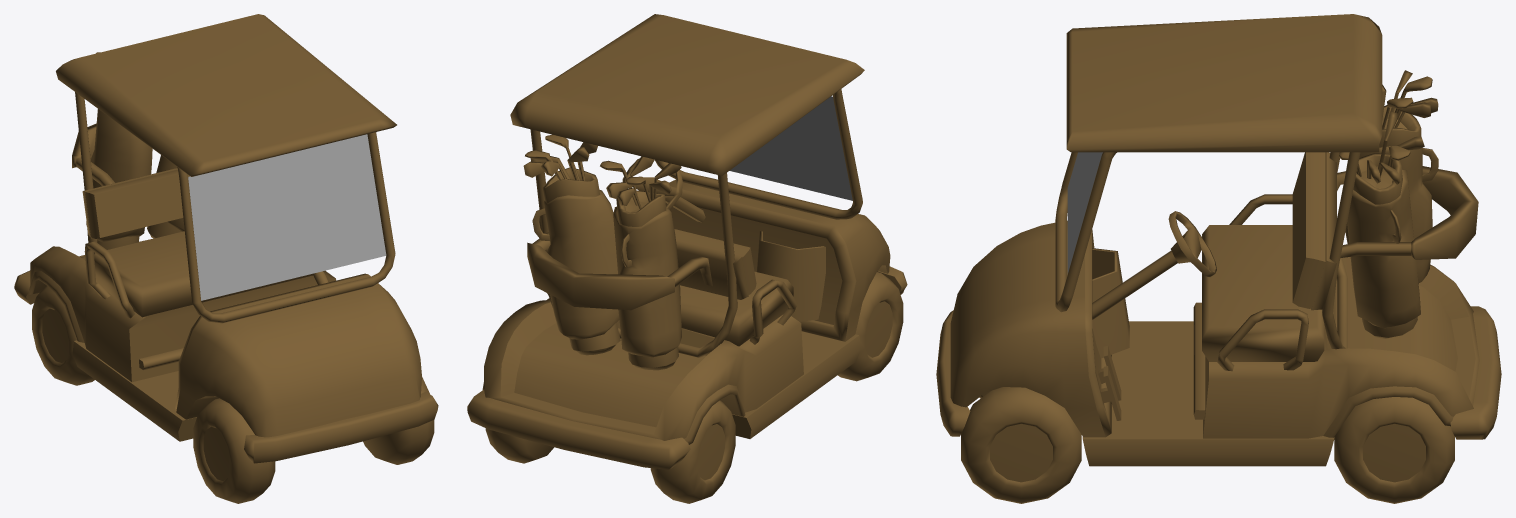
Rendered from GolfKart.fbx.
The picture shows the model from 3 angles, left to right: view 1: azimuth 30°, elevation 25°; view 2: azimuth 150°, elevation 25°; view 3: azimuth 270°, elevation 25°; orthographic projection. The views are drawn at different scales.
Parts seen in each view (by area): view 1: Kart; view 2: Kart; view 3: Kart.
Boxes of the visible parts, x1,y1,x2,y2 form: Kart: (14, 14, 438, 503); Kart: (467, 14, 907, 503); Kart: (936, 14, 1501, 503).
Bounding box in the file's own units: 63.06 × 94.62 × 124.
